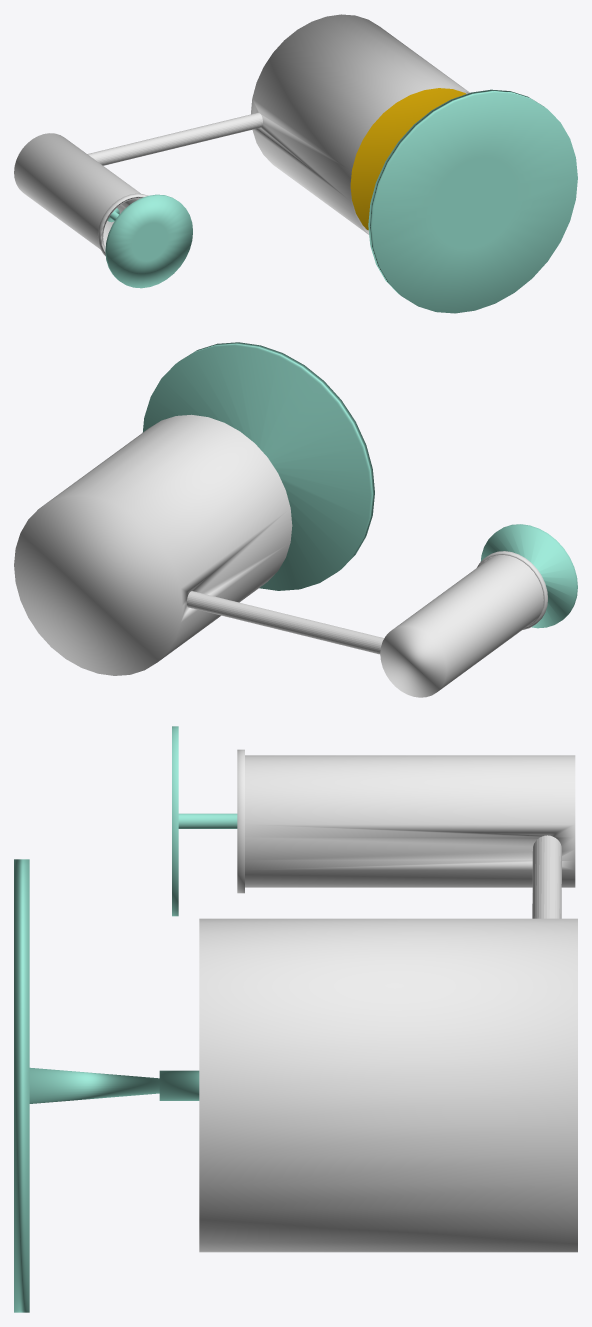
Rendered from hydraulic-press1.glb.
3 views of the same model, one above another, from view 1: azimuth 30°, elevation 25°; view 2: azimuth 150°, elevation 25°; view 3: azimuth 270°, elevation 25° (orthographic). The views are drawn at different scales.
Parts seen in each view (by area): view 1: big-pisto, big-container, small-container, small-pisto.001, connector-pipe; view 2: big-container, big-pisto, small-container, small-pisto.001, connector-pipe; view 3: big-container, small-container, big-pisto, connector-pipe, small-pisto.001.
Boxes of the visible parts, <box> form: big-pisto: <box>350,88,577,313</box>; big-container: <box>251,14,469,234</box>; small-container: <box>14,133,147,256</box>; small-pisto.001: <box>105,194,192,288</box>; connector-pipe: <box>87,112,262,165</box>; big-container: <box>14,414,292,675</box>; big-pisto: <box>142,342,374,590</box>; small-container: <box>380,551,547,697</box>; small-pisto.001: <box>480,524,577,628</box>; connector-pipe: <box>187,591,384,654</box>; big-container: <box>199,918,577,1252</box>; small-container: <box>237,749,575,893</box>; big-pisto: <box>14,859,199,1312</box>; connector-pipe: <box>532,835,561,918</box>; small-pisto.001: <box>172,726,237,916</box>.
Bounding box in the file's own units: 0.7296 × 0.3492 × 0.4341.
